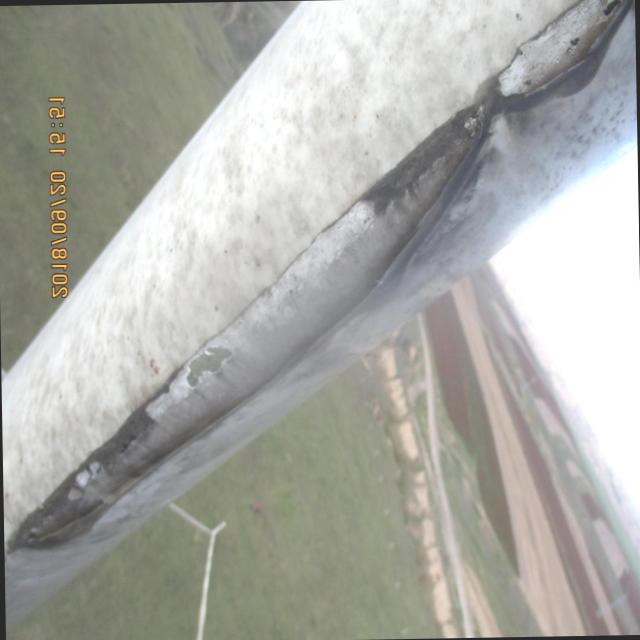crack: (20, 302, 270, 550), (281, 107, 474, 346), (475, 0, 629, 117)
